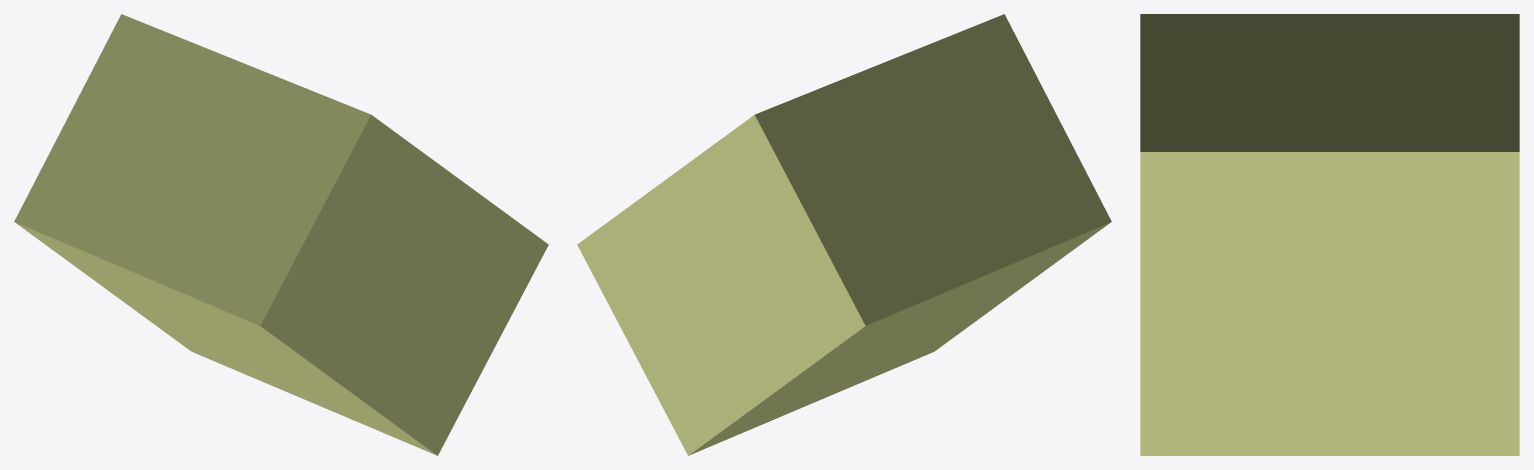
3 renders of one model, left to right at view 1: azimuth 30°, elevation 25°; view 2: azimuth 150°, elevation 25°; view 3: azimuth 270°, elevation 25°, orthographic. The views are drawn at different scales.
Parts seen in each view (by area): view 1: 0_1_0_0_1_0_3_0_0_2; view 2: 0_1_0_0_1_0_3_0_0_2; view 3: 0_1_0_0_1_0_3_0_0_2.
Boxes of the visible parts, x1,y1,x2,y2 form: 0_1_0_0_1_0_3_0_0_2: [14, 14, 548, 455]; 0_1_0_0_1_0_3_0_0_2: [577, 14, 1111, 455]; 0_1_0_0_1_0_3_0_0_2: [1140, 14, 1519, 455].
Size of the model in its own units: 10.46 by 9.68 by 9.
